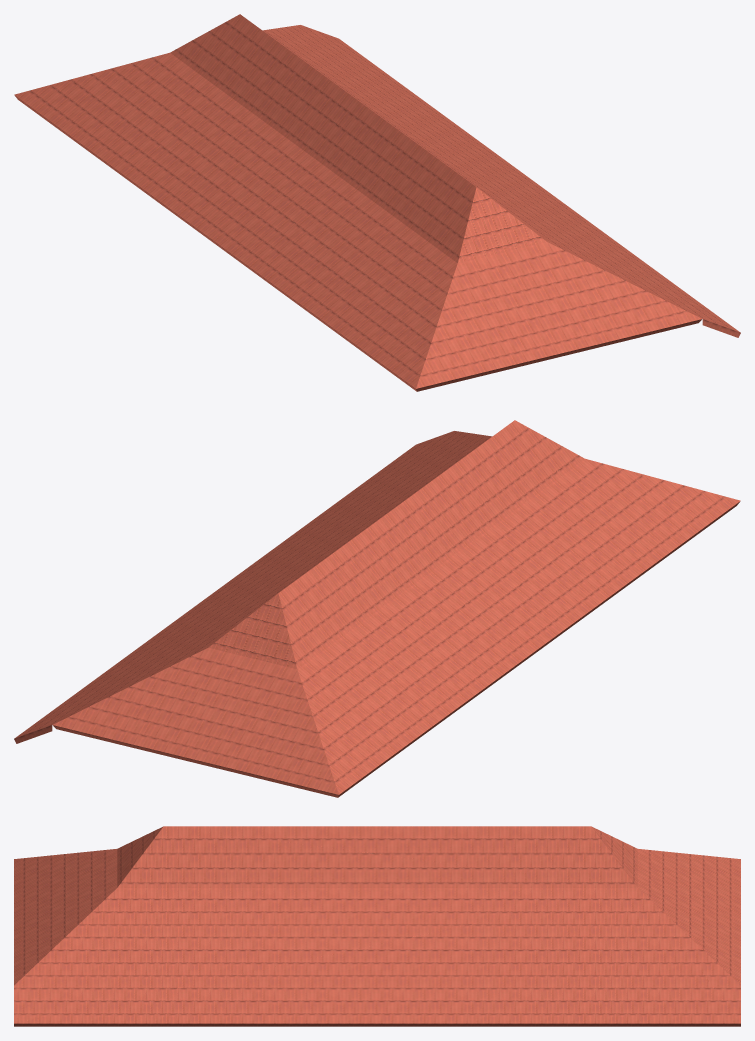
File: Joglo_part_361.fbx
The picture shows the model from 3 angles, top to bottom: view 1: azimuth 30°, elevation 25°; view 2: azimuth 150°, elevation 25°; view 3: azimuth 270°, elevation 25°; orthographic projection. The views are drawn at different scales.
Visible parts, largest first — view 1: Mesh411_Roof_Tiles___French_Red_0.001; view 2: Mesh411_Roof_Tiles___French_Red_0.001; view 3: Mesh411_Roof_Tiles___French_Red_0.001.
Part boxes in pixels (x1,y1,x2,y2): Mesh411_Roof_Tiles___French_Red_0.001: (14, 14, 740, 391); Mesh411_Roof_Tiles___French_Red_0.001: (14, 420, 740, 797); Mesh411_Roof_Tiles___French_Red_0.001: (14, 826, 740, 1026).
Bounding box in the file's own units: 250 × 98.55 × 535.
